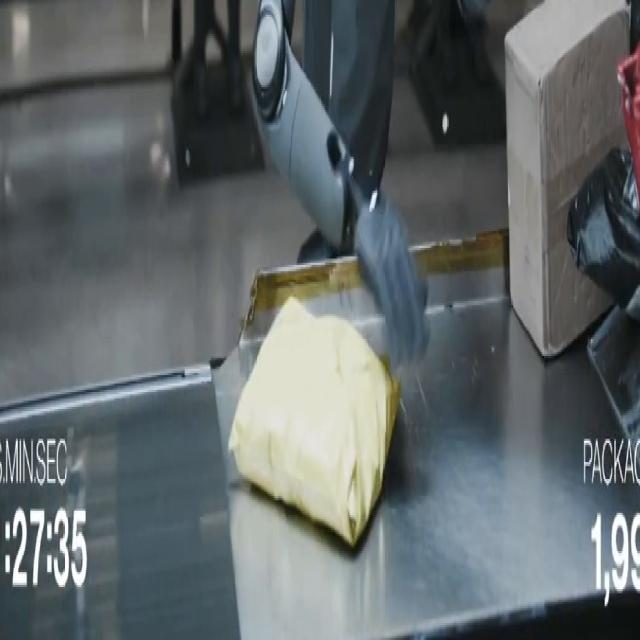package: (505, 0, 629, 358), (229, 297, 399, 546), (567, 149, 639, 322)
